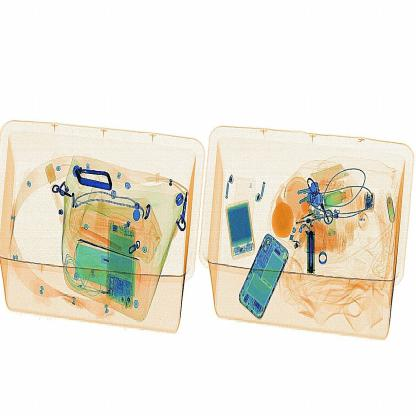scissors: (301, 225, 321, 278)
